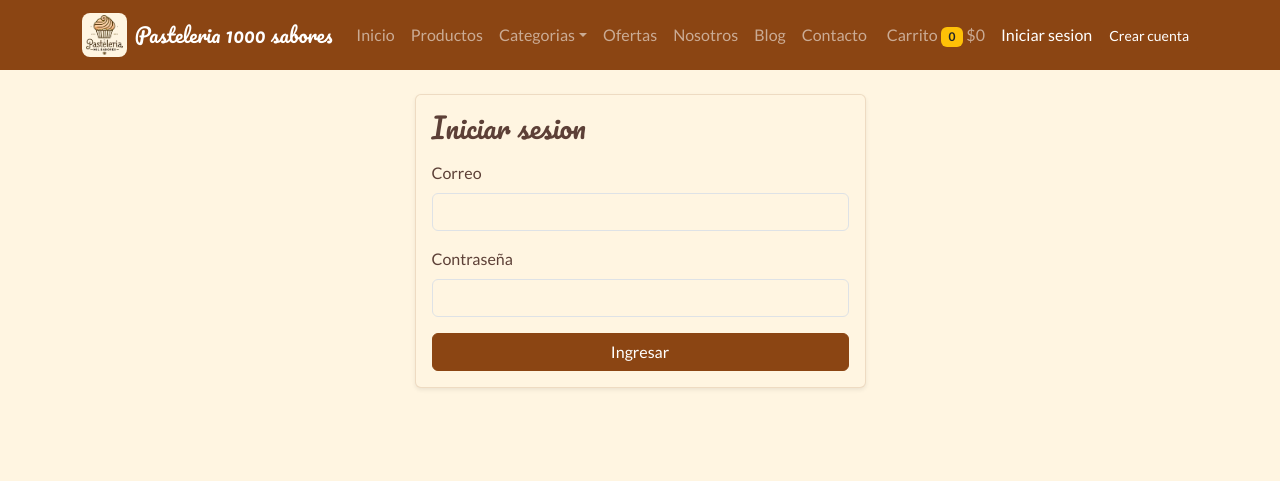
Test: App › un login incorrecto muestra un mensaje de error
The width and height of the screenshot is (1280, 481).
Type "nadie@duoc.cl" into the field labelled "Correo" at (640, 212), box 432,193 -> 848,231
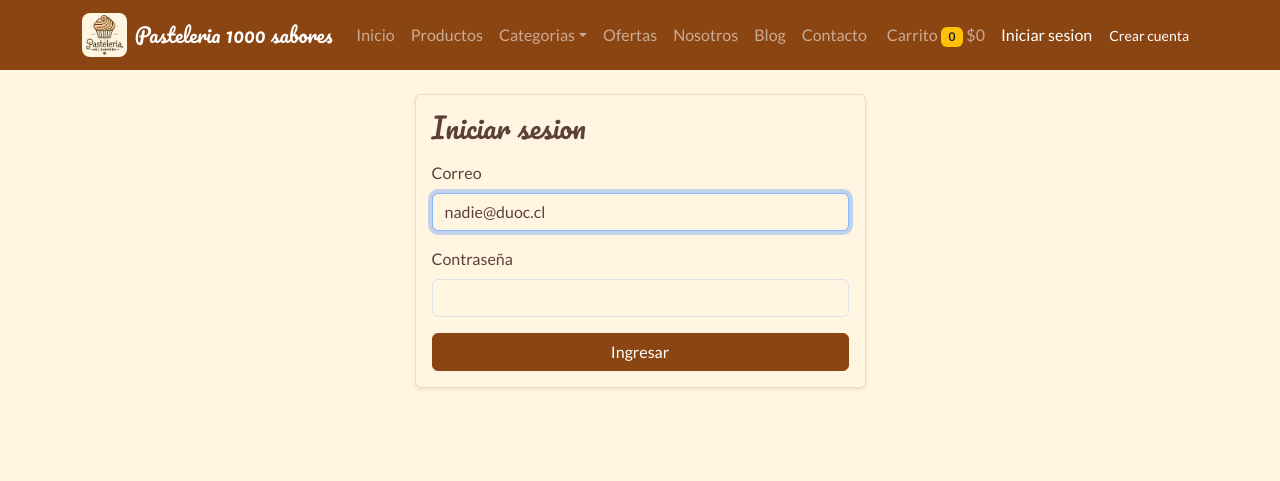
Type "mala" into the password field labelled "Contraseña" at (640, 298), box 432,279 -> 848,317
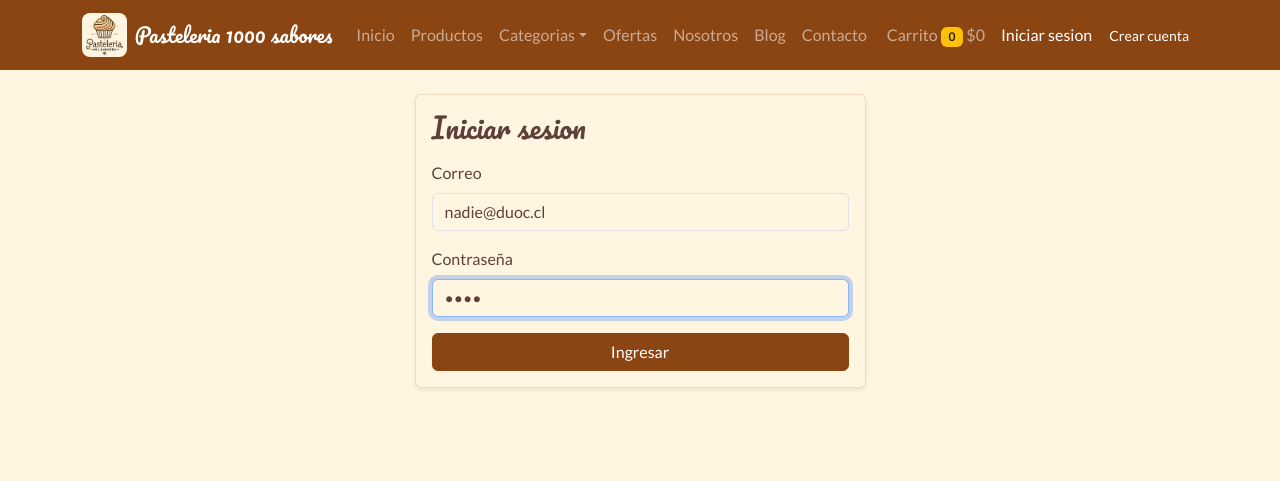
Click the button "Ingresar" at (640, 352), box 432,333 -> 848,371
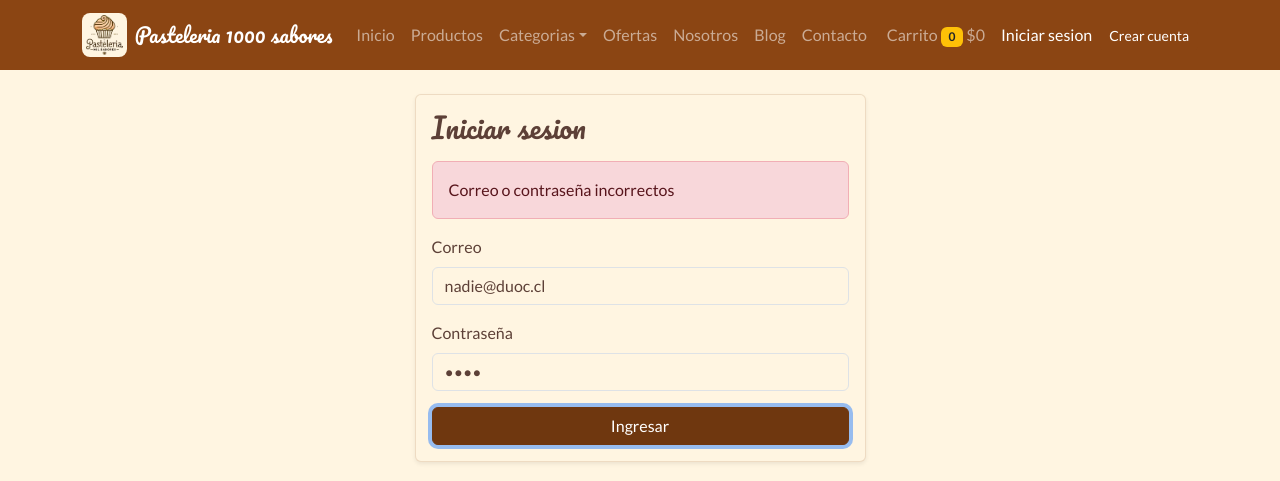
Result: the text "Correo o contraseña incorrectos" is shown at 432,161 -> 848,219
